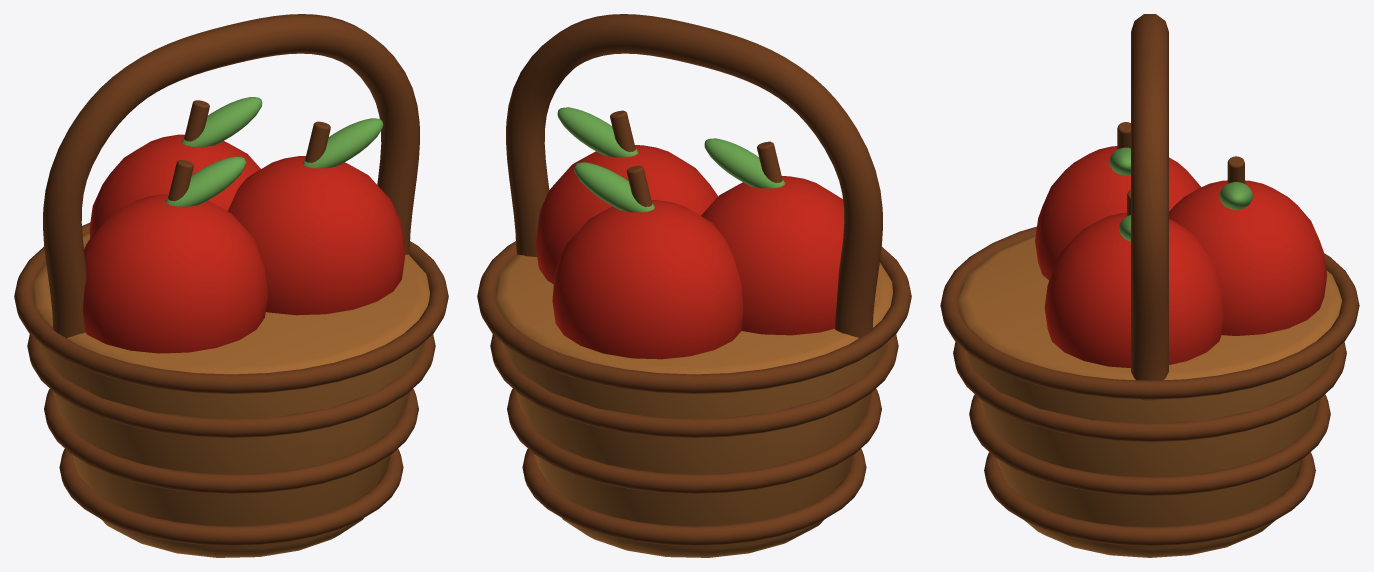
Rendered from supply_basket.glb.
The picture shows the model from 3 angles, left to right: view 1: azimuth 30°, elevation 25°; view 2: azimuth 150°, elevation 25°; view 3: azimuth 270°, elevation 25°; orthographic projection. The views are drawn at different scales.
Visible parts, largest first — view 1: supply_basket, basket_handle, apple, apple.001, basket_weave.003, basket_weave.002, basket_weave.001, basket_weave, apple.002, apple_leaf.001, apple_leaf, apple_leaf.002 (+3 smaller); view 2: supply_basket, basket_handle, apple.002, apple, basket_weave.003, basket_weave.002, basket_weave.001, apple.001, basket_weave, apple_leaf.002, apple_leaf.001, apple_leaf (+3 smaller); view 3: supply_basket, apple.001, apple.002, basket_handle, basket_weave.003, basket_weave.002, basket_weave.001, basket_weave, apple, apple_leaf.002, apple_leaf.
Boxes of the visible parts, x1,y1,x2,y2 form: supply_basket: (33,232,429,557); basket_handle: (43,14,419,337); apple: (82,194,267,353); apple.001: (228,156,404,315); basket_weave.003: (14,222,448,393); basket_weave.002: (27,334,435,437); basket_weave.001: (44,388,418,493); basket_weave: (59,448,403,545); apple.002: (89,134,260,238); apple_leaf.001: (302,118,383,168); apple_leaf: (165,156,246,206); apple_leaf.002: (181,97,262,146); supply_basket: (496,254,892,557); basket_handle: (506,14,882,337); apple.002: (552,200,743,359); apple: (701,176,844,335); basket_weave.003: (477,241,911,393); basket_weave.002: (490,334,898,437); basket_weave.001: (507,388,881,493); apple.001: (535,145,717,284); basket_weave: (522,448,866,545); apple_leaf.002: (574,162,654,212); apple_leaf.001: (557,107,638,157); apple_leaf: (704,138,785,188); supply_basket: (958,235,1341,557); apple.001: (1044,213,1223,367); apple.002: (1169,180,1327,335); basket_handle: (1131,14,1168,400); basket_weave.003: (940,226,1359,399); basket_weave.002: (953,341,1346,441); basket_weave.001: (969,394,1330,495); basket_weave: (984,452,1315,546); apple: (1035,146,1200,280); apple_leaf.002: (1219,182,1252,209); apple_leaf: (1109,147,1130,175).
Size of the model in its own units: 0.8752 by 1.06 by 0.8752.
